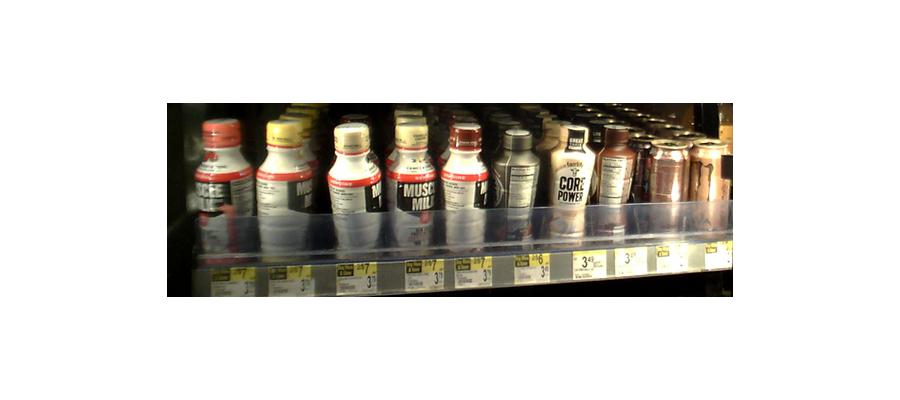bottle: (258, 118, 319, 259), (197, 117, 254, 263), (328, 123, 384, 259), (386, 111, 438, 254), (441, 115, 490, 255), (544, 119, 595, 243), (491, 123, 537, 247), (639, 136, 692, 238), (598, 122, 635, 242), (690, 137, 734, 235)
